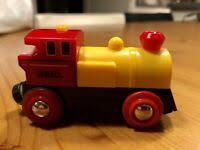brio: (9, 23, 169, 106)
